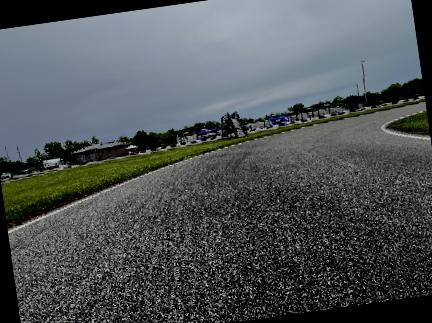Grass: (1, 102, 419, 223), (392, 112, 429, 134)
Lane: (8, 104, 431, 322)
